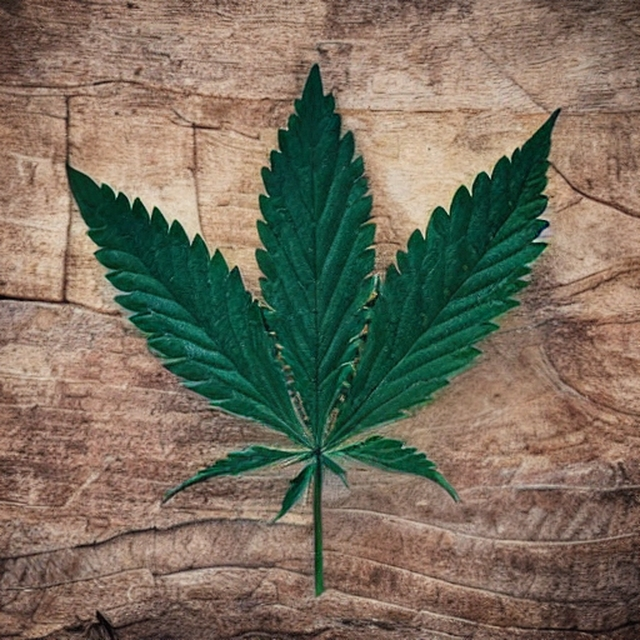Marijuana Leaf: (64, 61, 562, 596)
